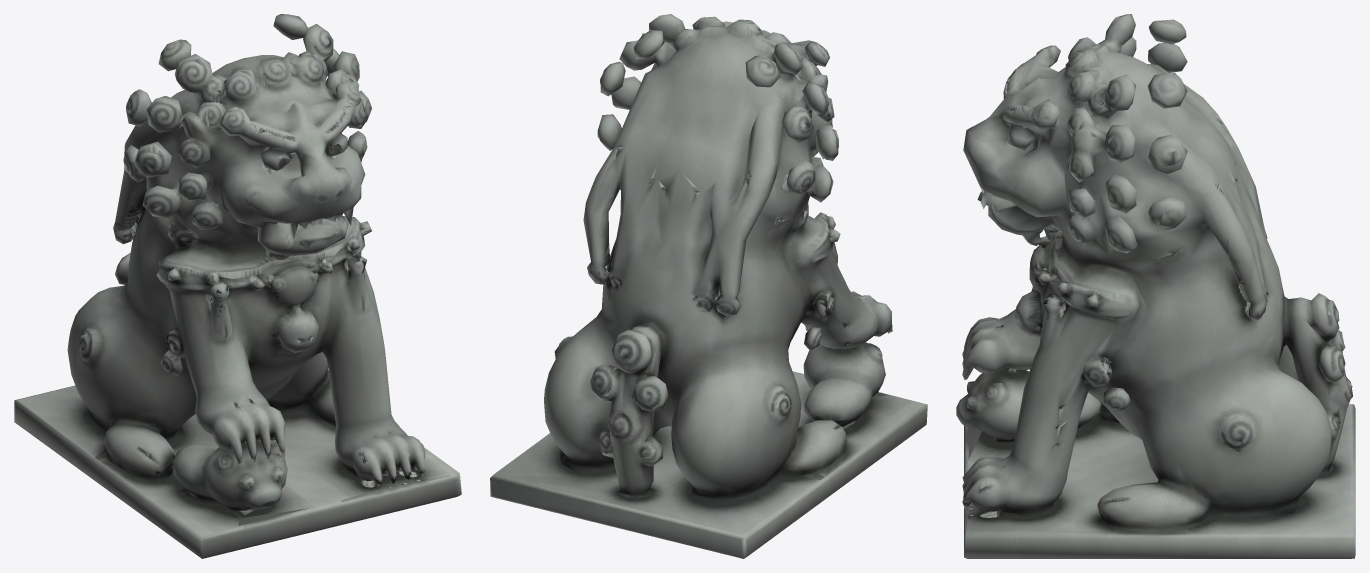
The model's file is nghe_cai.glb.
3 renders of one model, left to right at view 1: azimuth 30°, elevation 25°; view 2: azimuth 150°, elevation 25°; view 3: azimuth 270°, elevation 25°, orthographic. The views are drawn at different scales.
Parts seen in each view (by area): view 1: nghe_cai; view 2: nghe_cai; view 3: nghe_cai.
Boxes of the visible parts, <box> form: nghe_cai: <box>14,14,461,558</box>; nghe_cai: <box>490,14,927,558</box>; nghe_cai: <box>956,14,1355,558</box>.
Size of the model in its own units: 0.7998 by 1.26 by 1.02.
1 material, 1 textured.
